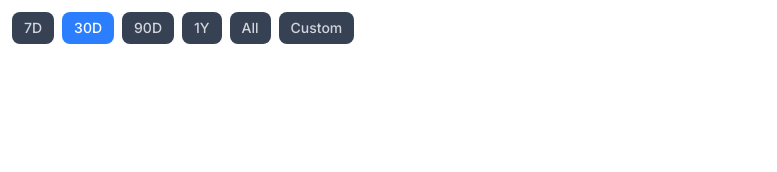
TimeRangeSelector › shows date inputs when Custom is clicked
Click the button "Custom".
click(316, 28)  # box [278,12,354,44]
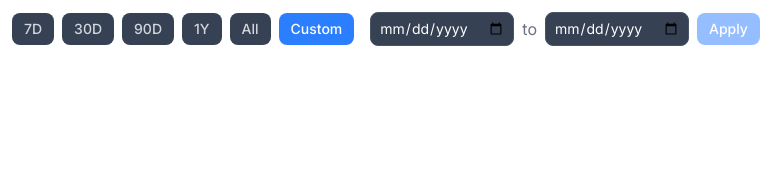
Result: the date field named "Start date" is shown at [370,12,514,46]
Result: the date field named "End date" is shown at [545,12,689,46]
Result: the button "Apply" is shown at [697,13,760,45]
